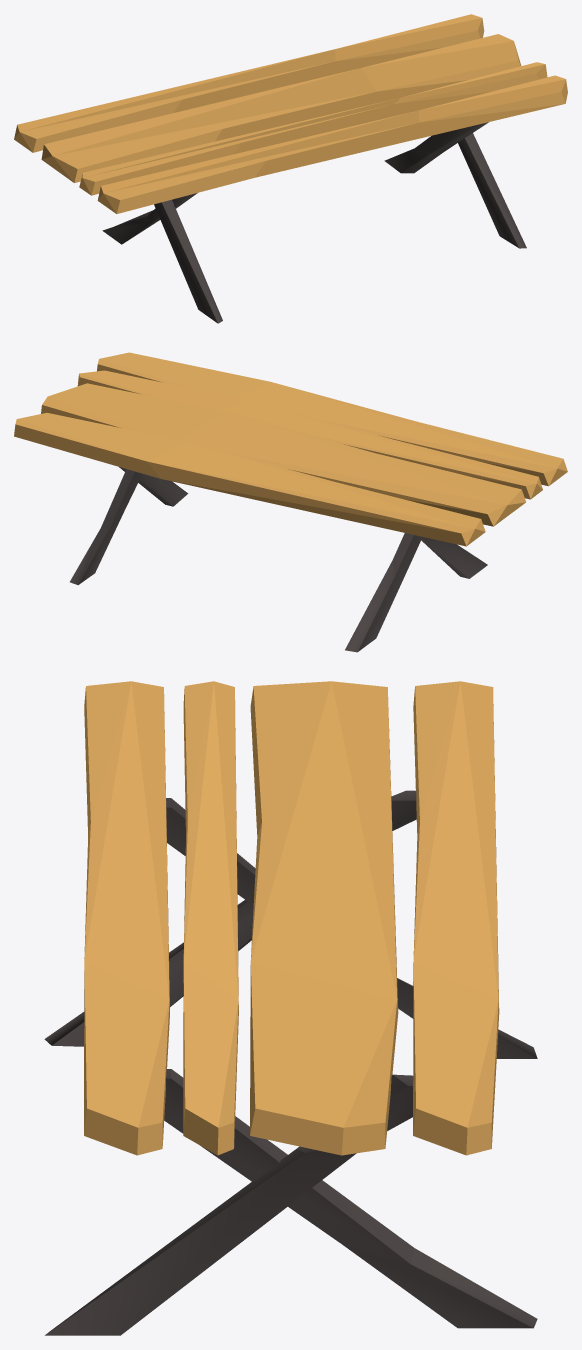
Rendered from Table.002.fbx.
The picture shows the model from 3 angles, top to bottom: view 1: azimuth 30°, elevation 25°; view 2: azimuth 150°, elevation 25°; view 3: azimuth 270°, elevation 25°; orthographic projection. The views are drawn at different scales.
Parts seen in each view (by area): view 1: Table.002; view 2: Table.002; view 3: Table.002.
Part boxes in pixels (x1=…): Table.002: x1=14, y1=14, x2=567, y2=323; Table.002: x1=14, y1=352, x2=567, y2=652; Table.002: x1=44, y1=681, x2=537, y2=1335.
Bounding box in the file's own units: 210 × 61.25 × 97.91.
